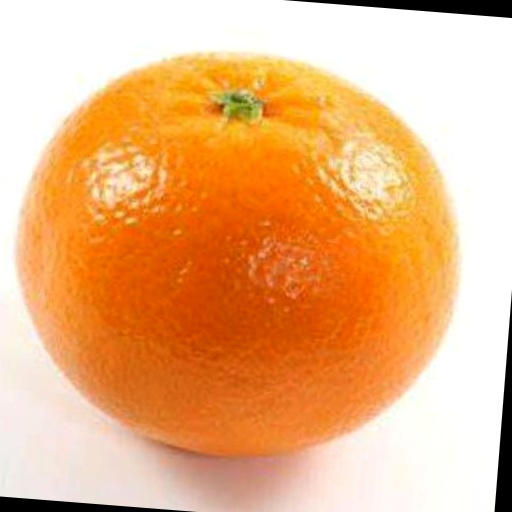fruit: (17, 54, 456, 454)
